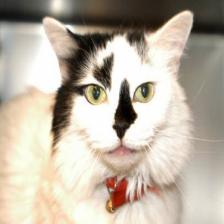cat: (42, 9, 201, 171)
